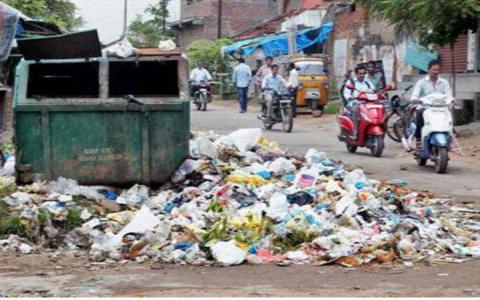overflowing garbage: (14, 53, 261, 266)
